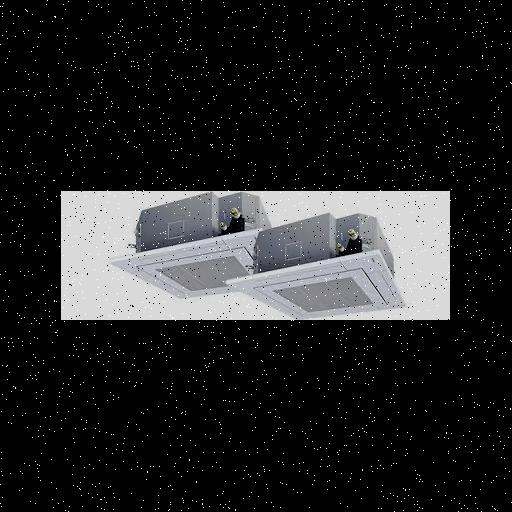4-way-ac: (227, 250, 407, 319), (108, 232, 264, 300)
